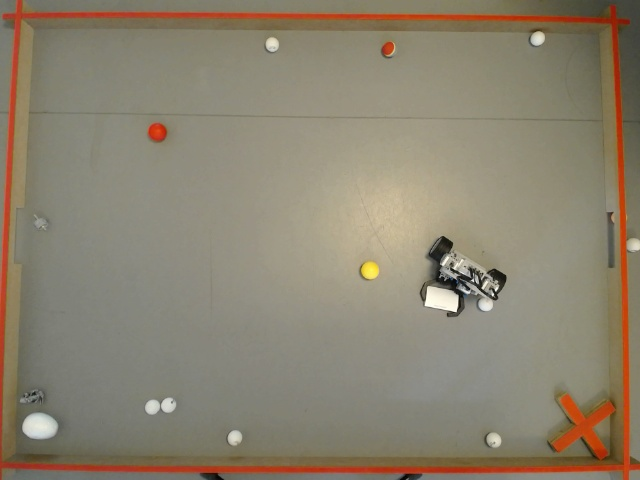big_goal: (0, 206, 22, 264)
cross: (550, 395, 616, 458)
egg: (24, 414, 56, 438)
orange: (612, 213, 612, 219)
robot: (420, 234, 507, 317)
small_goal: (601, 209, 626, 267)
wall: (0, 0, 32, 465), (597, 5, 628, 468), (2, 11, 626, 33), (1, 453, 627, 471)
white: (477, 297, 492, 311), (486, 434, 498, 446), (228, 431, 240, 443), (162, 399, 174, 411), (531, 32, 542, 45), (628, 237, 638, 251), (266, 39, 278, 50), (146, 402, 156, 411)
